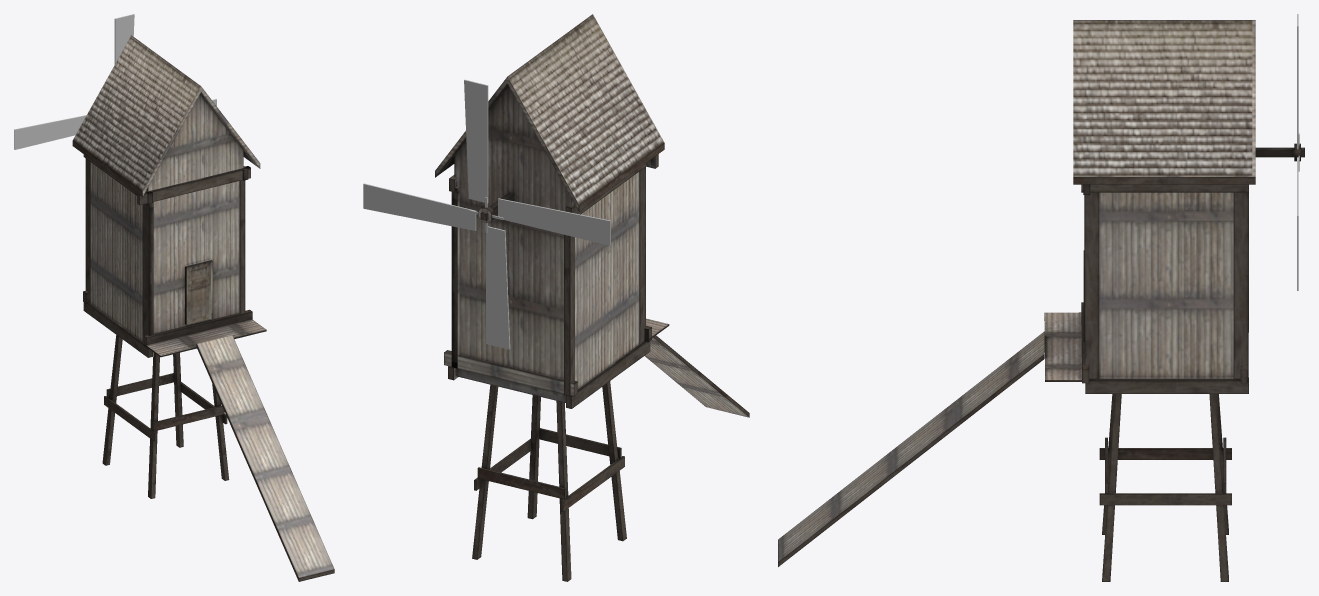
File: mill.FBX
3 views of the same model, side by side, from view 1: azimuth 30°, elevation 25°; view 2: azimuth 150°, elevation 25°; view 3: azimuth 270°, elevation 25° (orthographic). The views are drawn at different scales.
Parts seen in each view (by area): view 1: Box001, Box005; view 2: Box001, Box005; view 3: Box001.
Part boxes in pixels (x1,y1,x2,y2): Box001: (72, 35, 334, 581); Box005: (14, 14, 216, 149); Box001: (435, 14, 749, 581); Box005: (363, 79, 610, 349); Box001: (778, 20, 1304, 581).
Bounding box in the file's own units: 41.96 × 72.55 × 82.51.
